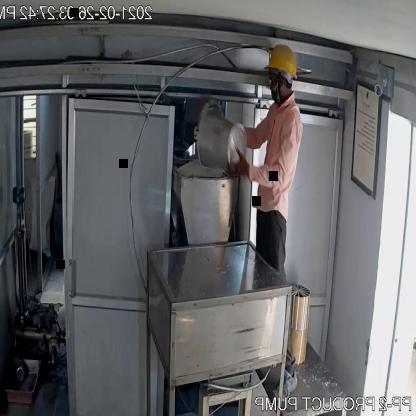helmet: (260, 41, 300, 81)
